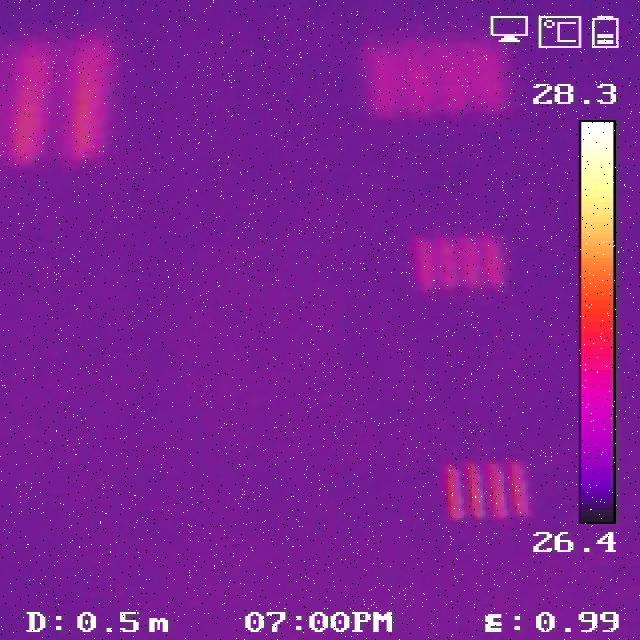Distinguishable 4-bar target: (0, 27, 111, 164), (444, 455, 536, 521)
threshold 4-bar target: (360, 32, 509, 114), (410, 231, 510, 291)
